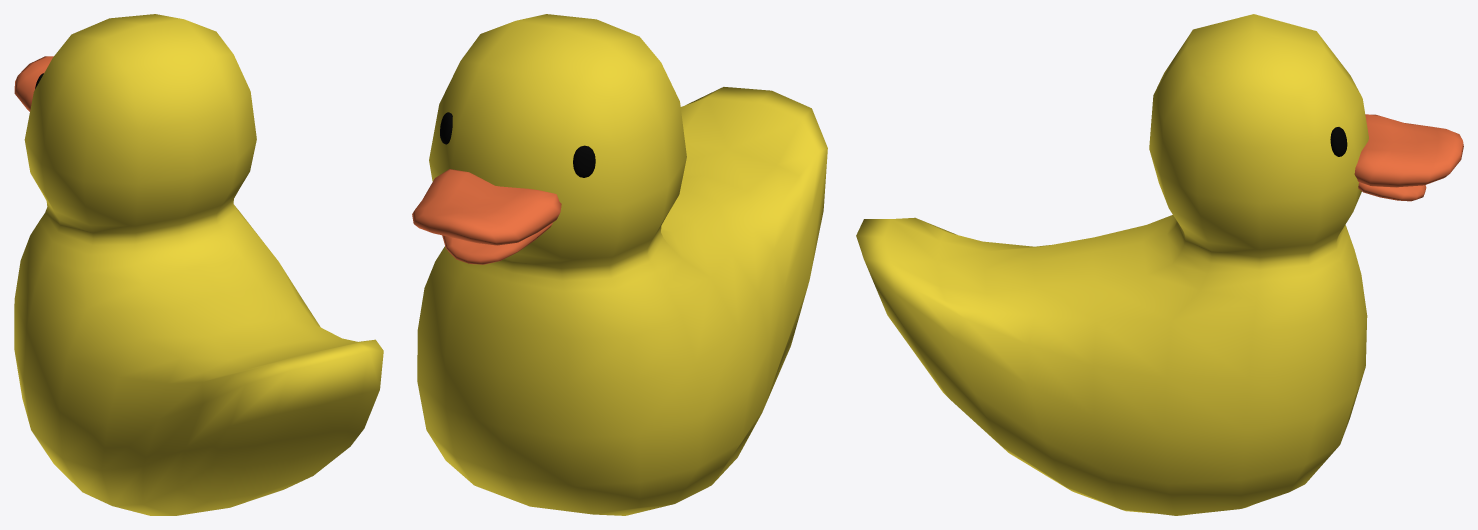
The model's file is duck.fbx.
3 views of the same model, side by side, from view 1: azimuth 30°, elevation 25°; view 2: azimuth 150°, elevation 25°; view 3: azimuth 270°, elevation 25° (orthographic). The views are drawn at different scales.
Visible parts, largest first — view 1: Body, PeckTop; view 2: Body, PeckTop, PeckBot, Eyes; view 3: Body, PeckTop, PeckBot.
Part boxes in pixels (box(x1,y1,x2,y2)): Body: box(14, 14, 383, 515); PeckTop: box(14, 56, 53, 111); Body: box(417, 14, 827, 515); PeckTop: box(412, 169, 561, 245); PeckBot: box(442, 223, 552, 264); Eyes: box(440, 112, 595, 177); Body: box(856, 14, 1368, 515); PeckTop: box(1354, 114, 1463, 187); PeckBot: box(1358, 182, 1426, 201).
Bounding box in the file's own units: 155 × 307 × 258.
